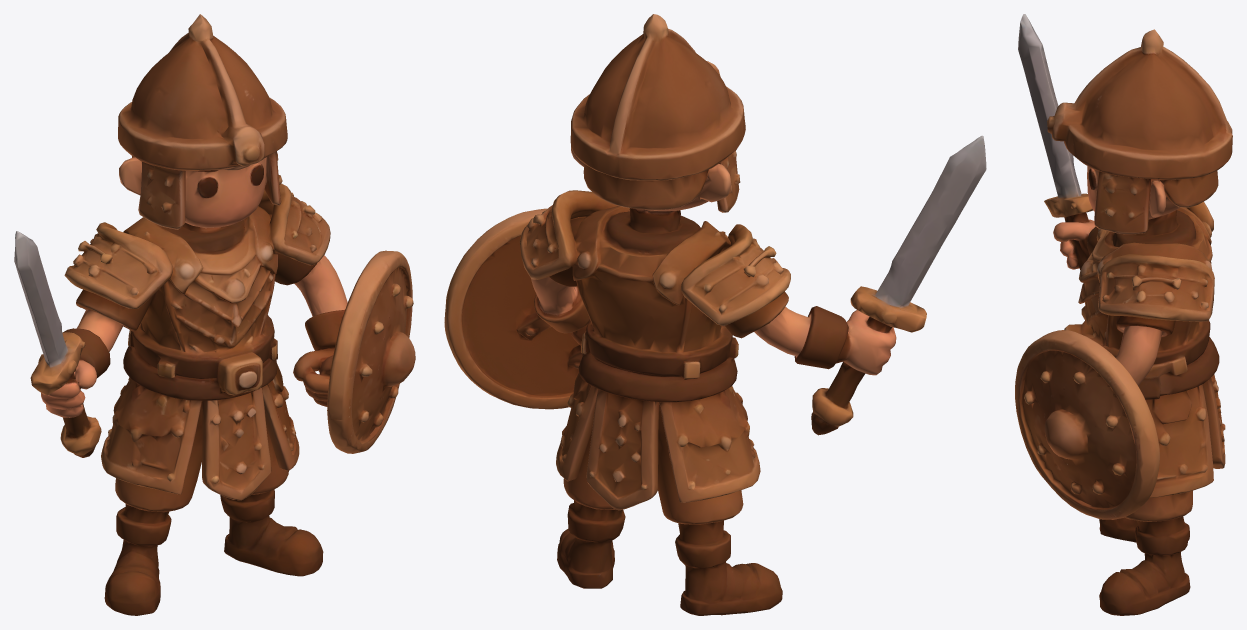
Rendered from soldier_sword.glb.
The picture shows the model from 3 angles, left to right: view 1: azimuth 30°, elevation 25°; view 2: azimuth 150°, elevation 25°; view 3: azimuth 270°, elevation 25°; orthographic projection. The views are drawn at different scales.
Parts seen in each view (by area): view 1: tripo_node_caa2f891-560c-43a5-b723-23e16e447de7; view 2: tripo_node_caa2f891-560c-43a5-b723-23e16e447de7; view 3: tripo_node_caa2f891-560c-43a5-b723-23e16e447de7.
Boxes of the visible parts, x1,y1,x2,y2 form: tripo_node_caa2f891-560c-43a5-b723-23e16e447de7: (14,14,415,615); tripo_node_caa2f891-560c-43a5-b723-23e16e447de7: (444,14,986,615); tripo_node_caa2f891-560c-43a5-b723-23e16e447de7: (1015,14,1232,615).
Bounding box in the file's own units: 0.8547 × 1 × 0.3651.
1 material, 1 textured.
